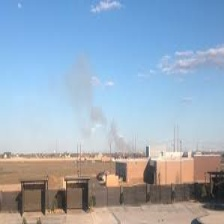smoke: (76, 92, 146, 157)
